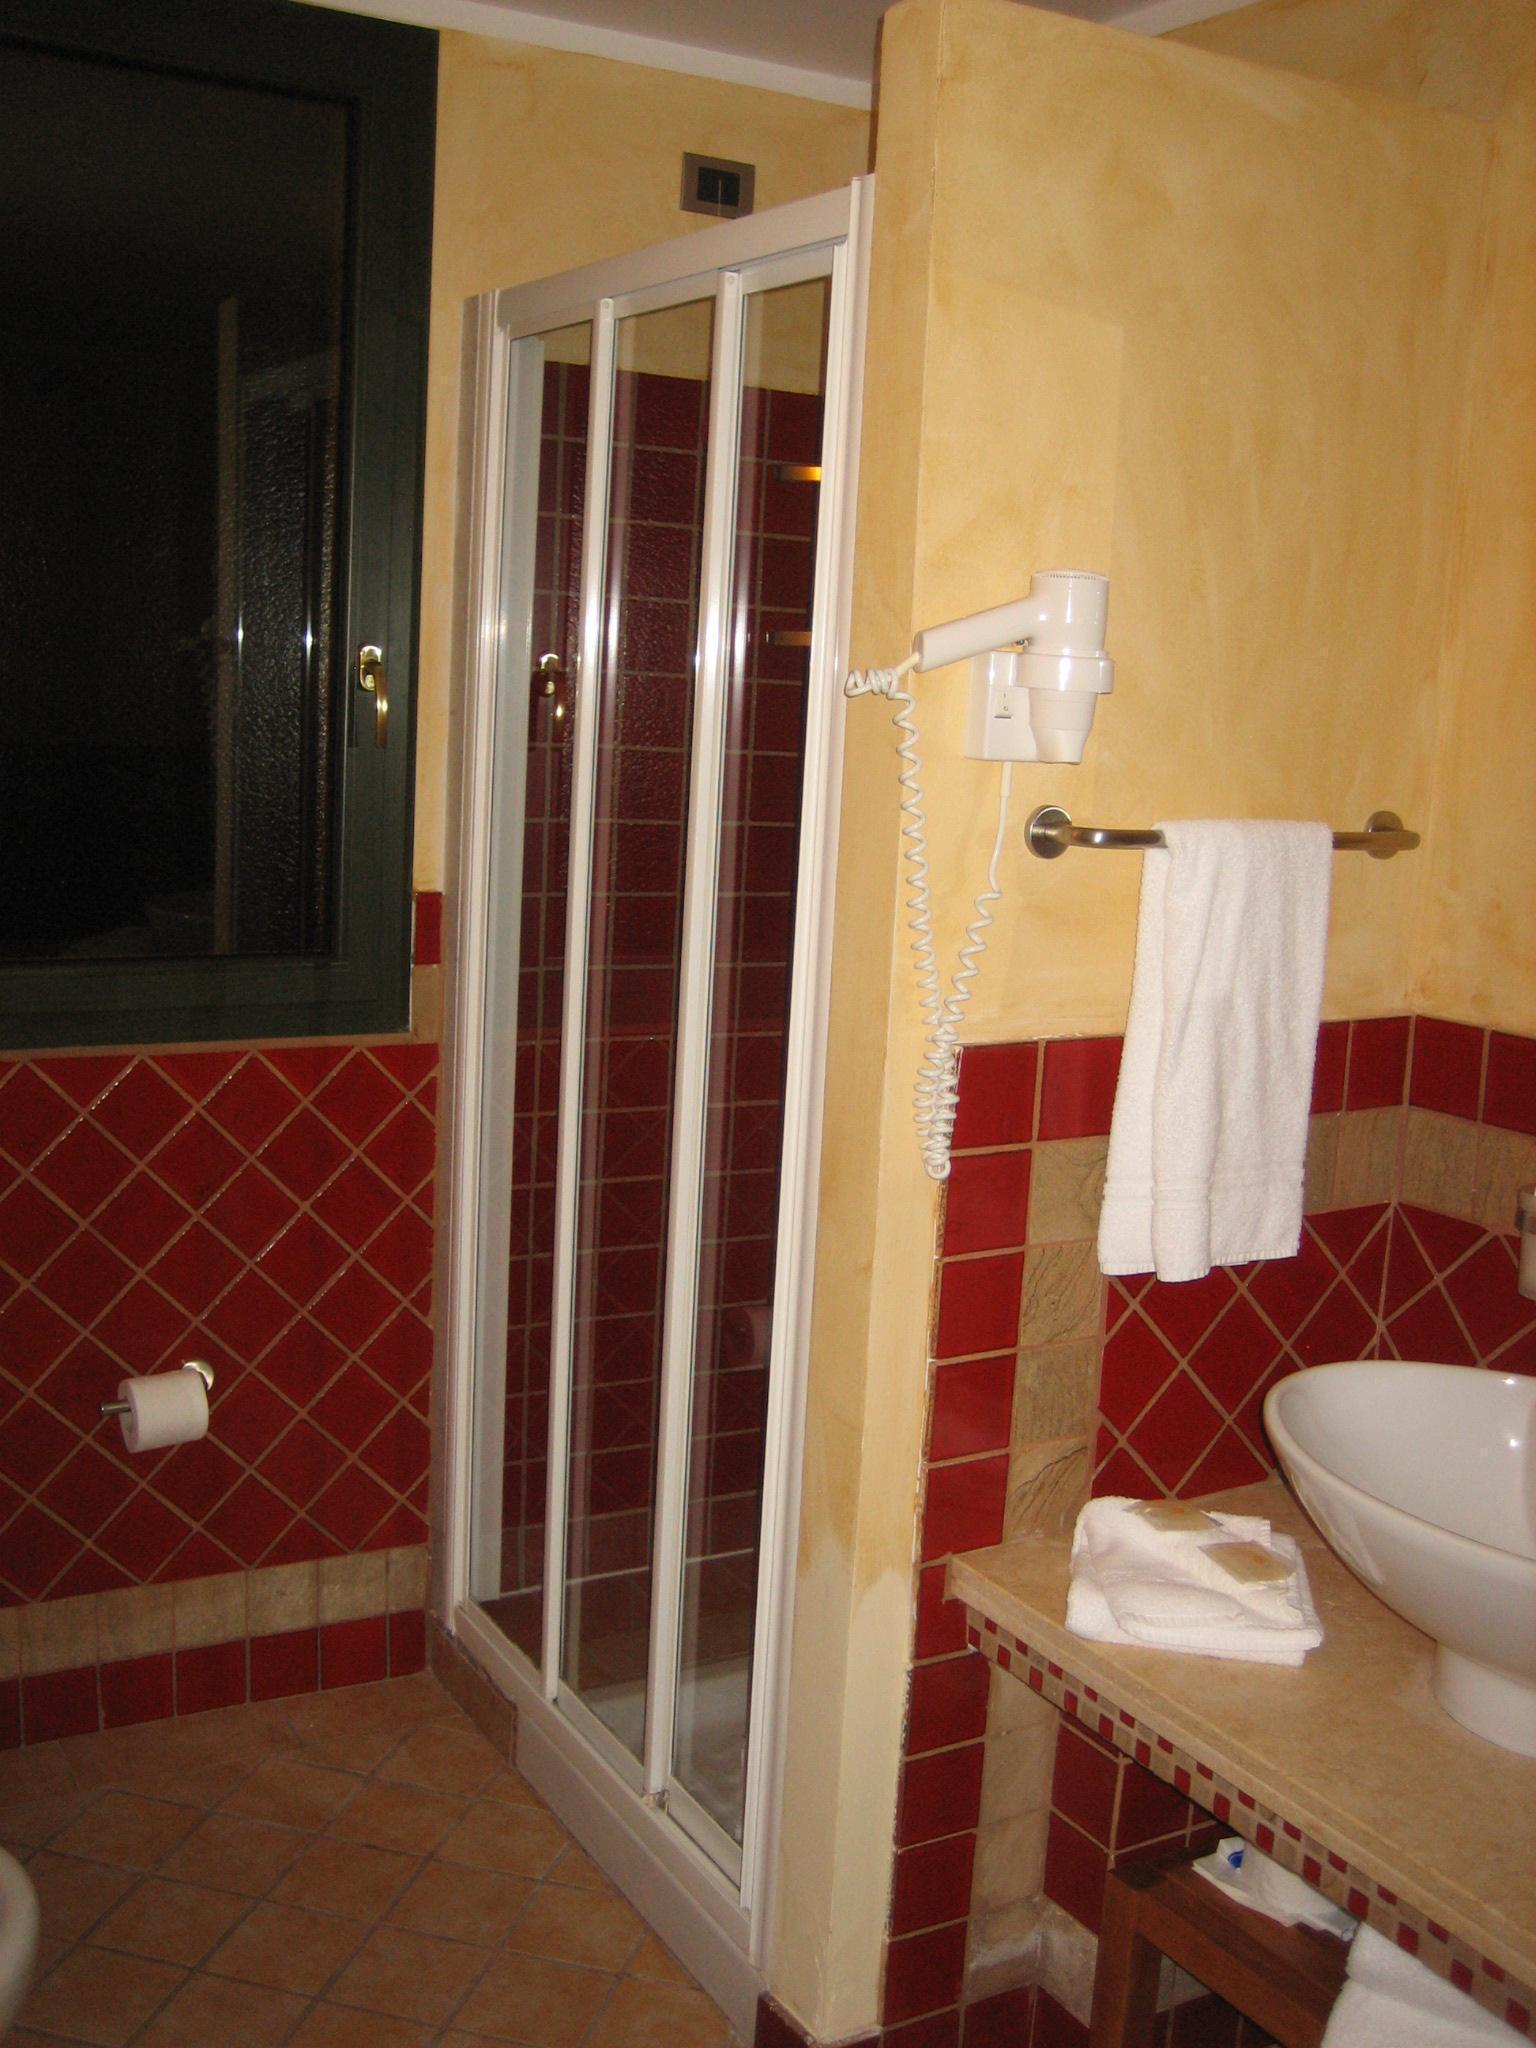Ducha: (470, 240, 833, 1900)
Lavamanos: (1257, 1287, 1520, 1763)
Ventana: (3, 34, 432, 1034)
